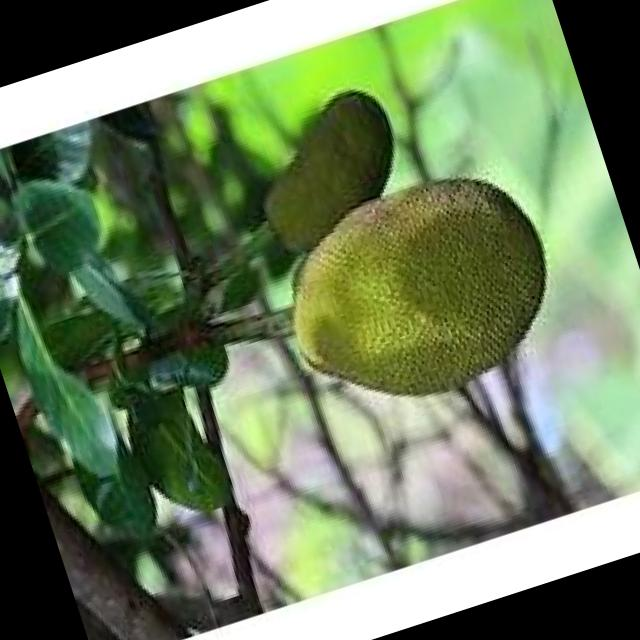Fruit: (244, 133, 600, 450)
